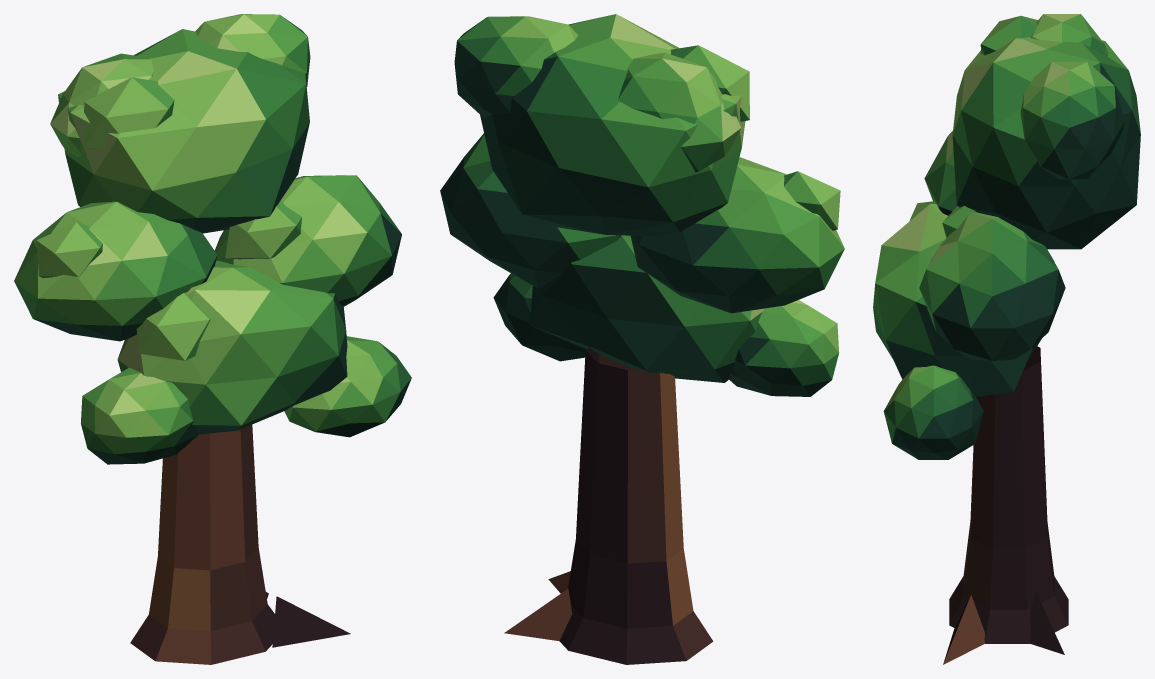
Rendered from tree_tree1.glb.
The picture shows the model from 3 angles, left to right: view 1: azimuth 30°, elevation 25°; view 2: azimuth 150°, elevation 25°; view 3: azimuth 270°, elevation 25°; orthographic projection. The views are drawn at different scales.
Parts seen in each view (by area): view 1: tree1; view 2: tree1; view 3: tree1.
Boxes of the visible parts, x1,y1,x2,y2 form: tree1: (14, 14, 411, 664); tree1: (440, 14, 844, 664); tree1: (873, 14, 1140, 664).
Bounding box in the file's own units: 0.9829 × 1.52 × 0.6432.
